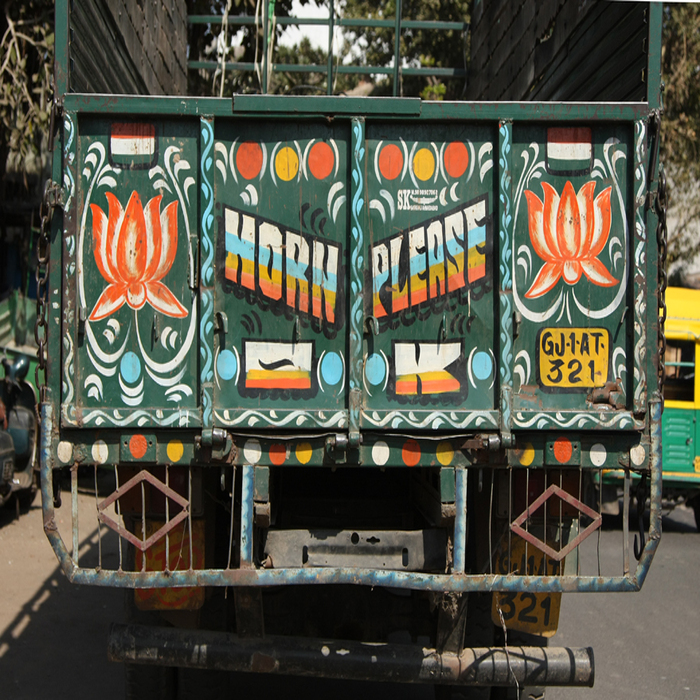n: (536, 326, 614, 389)
